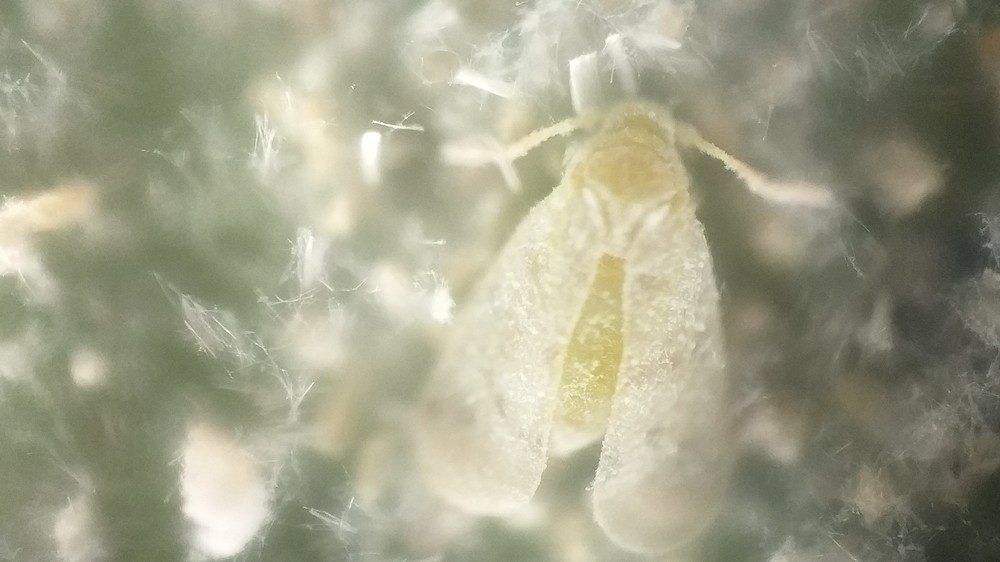Mosca Blanca: (402, 87, 871, 557)
